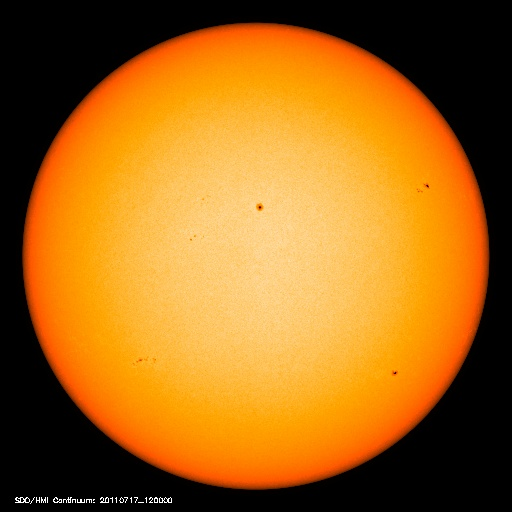sunspot: (181, 188, 216, 247), (119, 348, 172, 375), (240, 192, 275, 222), (406, 172, 437, 204), (378, 358, 411, 388)
